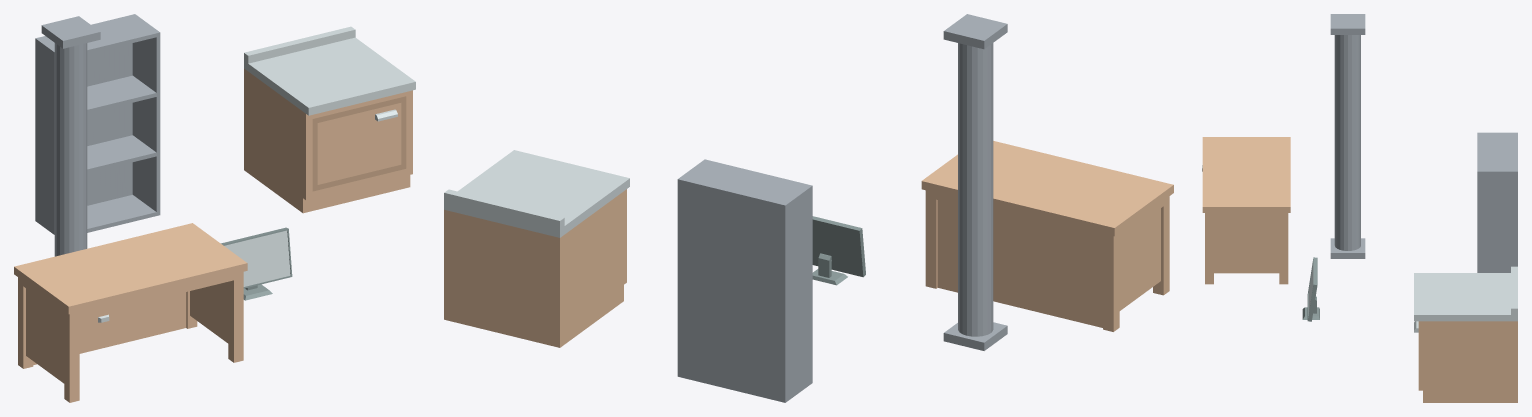
3 views of the same model, side by side, from view 1: azimuth 30°, elevation 25°; view 2: azimuth 150°, elevation 25°; view 3: azimuth 270°, elevation 25° (orthographic). The views are drawn at different scales.
Visible parts, largest first — view 1: desk_blue__desk(Clone), cabinet_blue__kitchenCabinet(Clone), column_cyan__column_cyan shaft, cabinet_blue__door, shelf_orange__shelf_orange back, shelf_orange__shelf_orange side_r, shelf_orange__shelf_orange side_l, monitor_gray__computerScreen(Clone), shelf_orange__shelf_orange board0, shelf_orange__shelf_orange board1, shelf_orange__shelf_orange board2, shelf_orange__shelf_orange board3 (+2 smaller); view 2: desk_blue__desk(Clone), cabinet_blue__kitchenCabinet(Clone), shelf_orange__shelf_orange back, column_cyan__column_cyan shaft, shelf_orange__shelf_orange side_l, monitor_gray__computerScreen(Clone), shelf_orange__shelf_orange board3, column_cyan__column_cyan capital, shelf_orange__shelf_orange side_r, column_cyan__column_cyan plinth; view 3: cabinet_blue__kitchenCabinet(Clone), desk_blue__desk(Clone), column_cyan__column_cyan shaft, shelf_orange__shelf_orange side_r, shelf_orange__shelf_orange board3, column_cyan__column_cyan capital, monitor_gray__computerScreen(Clone), column_cyan__column_cyan plinth.
Boxes of the visible parts, x1,y1,x2,y2 form: desk_blue__desk(Clone): [14, 223, 247, 402]; cabinet_blue__kitchenCabinet(Clone): [244, 26, 415, 213]; column_cyan__column_cyan shaft: [54, 43, 87, 256]; cabinet_blue__door: [312, 96, 406, 191]; shelf_orange__shelf_orange back: [39, 15, 132, 205]; shelf_orange__shelf_orange side_r: [132, 14, 160, 215]; shelf_orange__shelf_orange side_l: [35, 37, 54, 234]; monitor_gray__computerScreen(Clone): [221, 227, 292, 300]; shelf_orange__shelf_orange board0: [87, 195, 156, 232]; shelf_orange__shelf_orange board1: [87, 135, 156, 173]; shelf_orange__shelf_orange board2: [87, 75, 156, 113]; shelf_orange__shelf_orange board3: [41, 16, 156, 53]; desk_blue__desk(Clone): [921, 141, 1173, 331]; cabinet_blue__kitchenCabinet(Clone): [444, 150, 629, 347]; shelf_orange__shelf_orange back: [681, 179, 782, 401]; column_cyan__column_cyan shaft: [958, 43, 993, 336]; shelf_orange__shelf_orange side_l: [781, 184, 812, 402]; monitor_gray__computerScreen(Clone): [812, 216, 865, 285]; shelf_orange__shelf_orange board3: [684, 160, 807, 203]; column_cyan__column_cyan capital: [943, 14, 1007, 49]; shelf_orange__shelf_orange side_r: [677, 159, 708, 377]; column_cyan__column_cyan plinth: [943, 322, 1007, 350]; cabinet_blue__kitchenCabinet(Clone): [1414, 266, 1517, 402]; desk_blue__desk(Clone): [1202, 137, 1290, 284]; column_cyan__column_cyan shaft: [1334, 35, 1360, 250]; shelf_orange__shelf_orange side_r: [1477, 170, 1517, 272]; shelf_orange__shelf_orange board3: [1477, 134, 1515, 170]; column_cyan__column_cyan capital: [1330, 14, 1365, 34]; monitor_gray__computerScreen(Clone): [1302, 257, 1319, 321]; column_cyan__column_cyan plinth: [1330, 238, 1365, 258].
Size of the model in its own units: 3.84 by 2.2 by 2.73.
